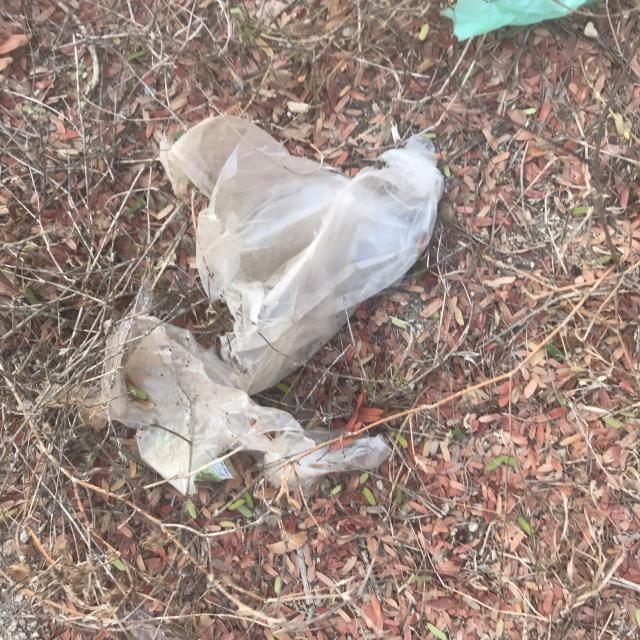Single-layer Plastic: (161, 115, 444, 394), (102, 294, 391, 495)
